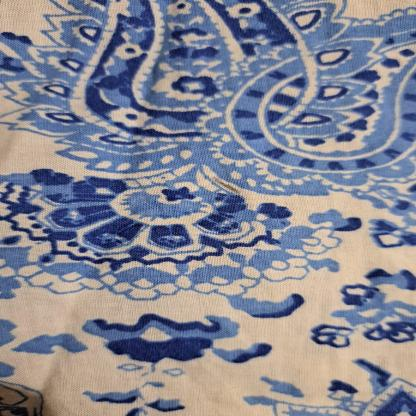spot: (212, 176, 243, 193)
